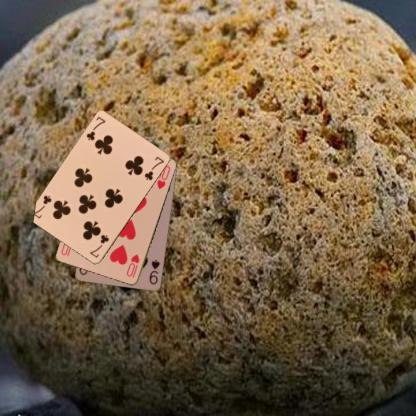10h: (124, 252, 141, 280)
7c: (84, 114, 107, 142), (87, 232, 110, 259)
9s: (146, 257, 162, 286)
